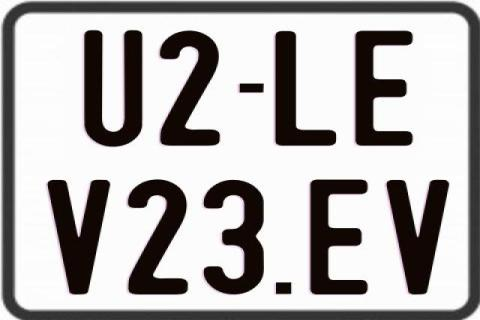0: (159, 29, 225, 145), (128, 178, 192, 294), (201, 178, 263, 294)
E: (353, 31, 417, 149), (308, 180, 367, 298)
L: (274, 29, 336, 147)
U: (84, 28, 145, 146)
V: (386, 177, 454, 297), (45, 178, 109, 298)
